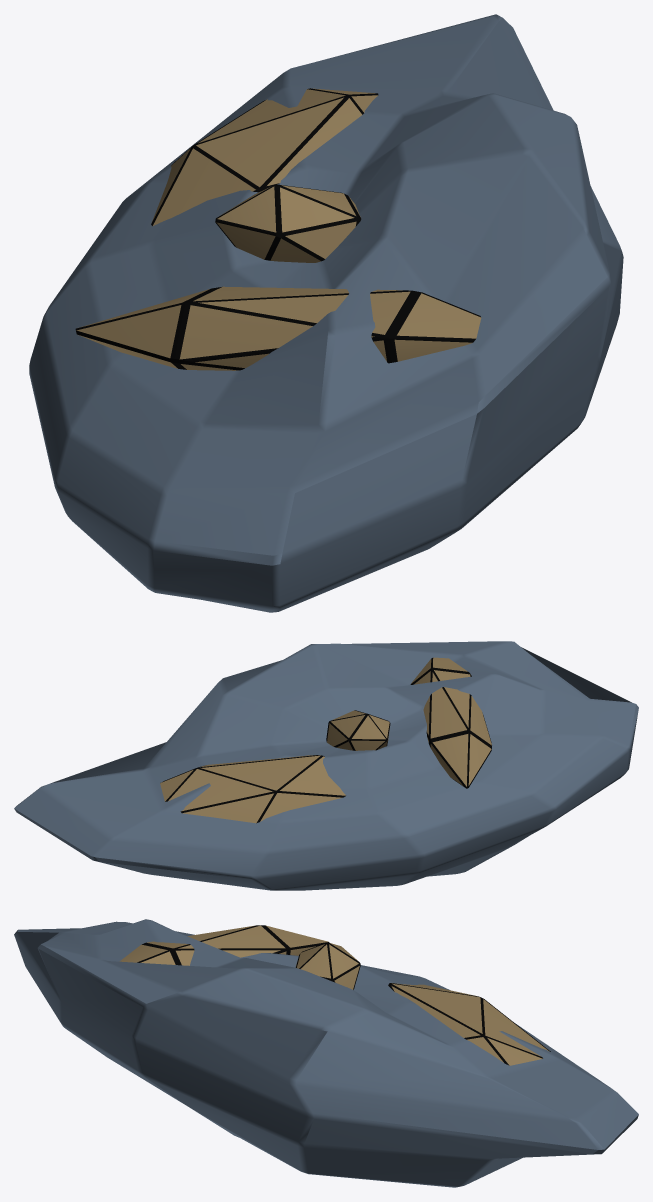
File: Low Quality Ore.fbx
3 views of the same model, one above another, from view 1: azimuth 30°, elevation 25°; view 2: azimuth 150°, elevation 25°; view 3: azimuth 270°, elevation 25° (orthographic). The views are drawn at different scales.
Parts seen in each view (by area): view 1: pSphere2, pPlatonic5, pPlatonic4, pPlatonic6; view 2: pSphere2, pPlatonic4, pPlatonic5, pPlatonic6; view 3: pSphere2, pPlatonic4, pPlatonic5, pPlatonic6.
Boxes of the visible parts, left/top/right/bottom form: pSphere2: left=29, top=14, right=623, bottom=612; pPlatonic5: left=75, top=286, right=481, bottom=370; pPlatonic4: left=151, top=88, right=378, bottom=226; pPlatonic6: left=215, top=184, right=361, bottom=262; pSphere2: left=14, top=641, right=638, bottom=890; pPlatonic4: left=160, top=755, right=345, bottom=823; pPlatonic5: left=410, top=657, right=491, bottom=788; pPlatonic6: left=326, top=710, right=390, bottom=750; pSphere2: left=14, top=919, right=638, bottom=1187; pPlatonic4: left=388, top=983, right=550, bottom=1065; pPlatonic5: left=119, top=925, right=329, bottom=965; pPlatonic6: left=295, top=942, right=360, bottom=989.
Size of the model in its own units: 3.56 by 1.54 by 4.18.
